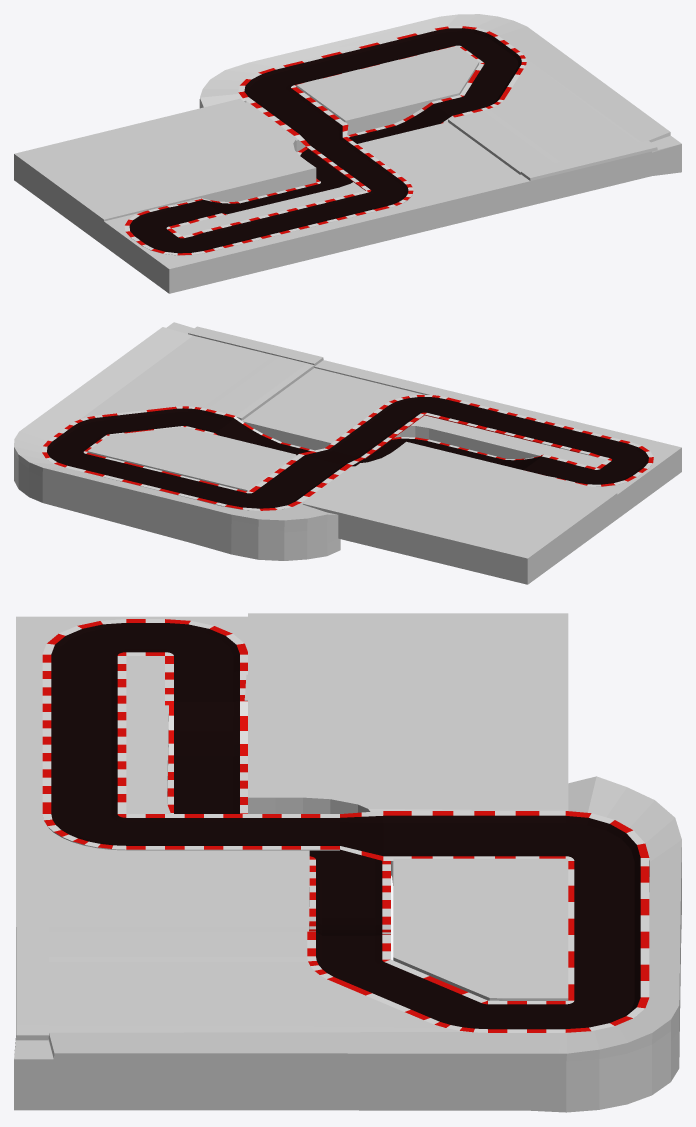
Rendered from karting_track.glb.
3 views of the same model, one above another, from view 1: azimuth 30°, elevation 25°; view 2: azimuth 150°, elevation 25°; view 3: azimuth 270°, elevation 25° (orthographic). The views are drawn at different scales.
Visible parts, largest first — view 1: Cube, Plane.004; view 2: Cube, Plane.004; view 3: Cube, Plane.004.
Boxes of the visible parts, <box> form: Cube: <box>14,14,681,293</box>; Plane.004: <box>124,26,526,255</box>; Cube: <box>14,322,681,584</box>; Plane.004: <box>42,395,653,510</box>; Cube: <box>14,613,681,1112</box>; Plane.004: <box>42,619,649,1032</box>.
Size of the model in its own units: 542 by 42.72 by 344.
